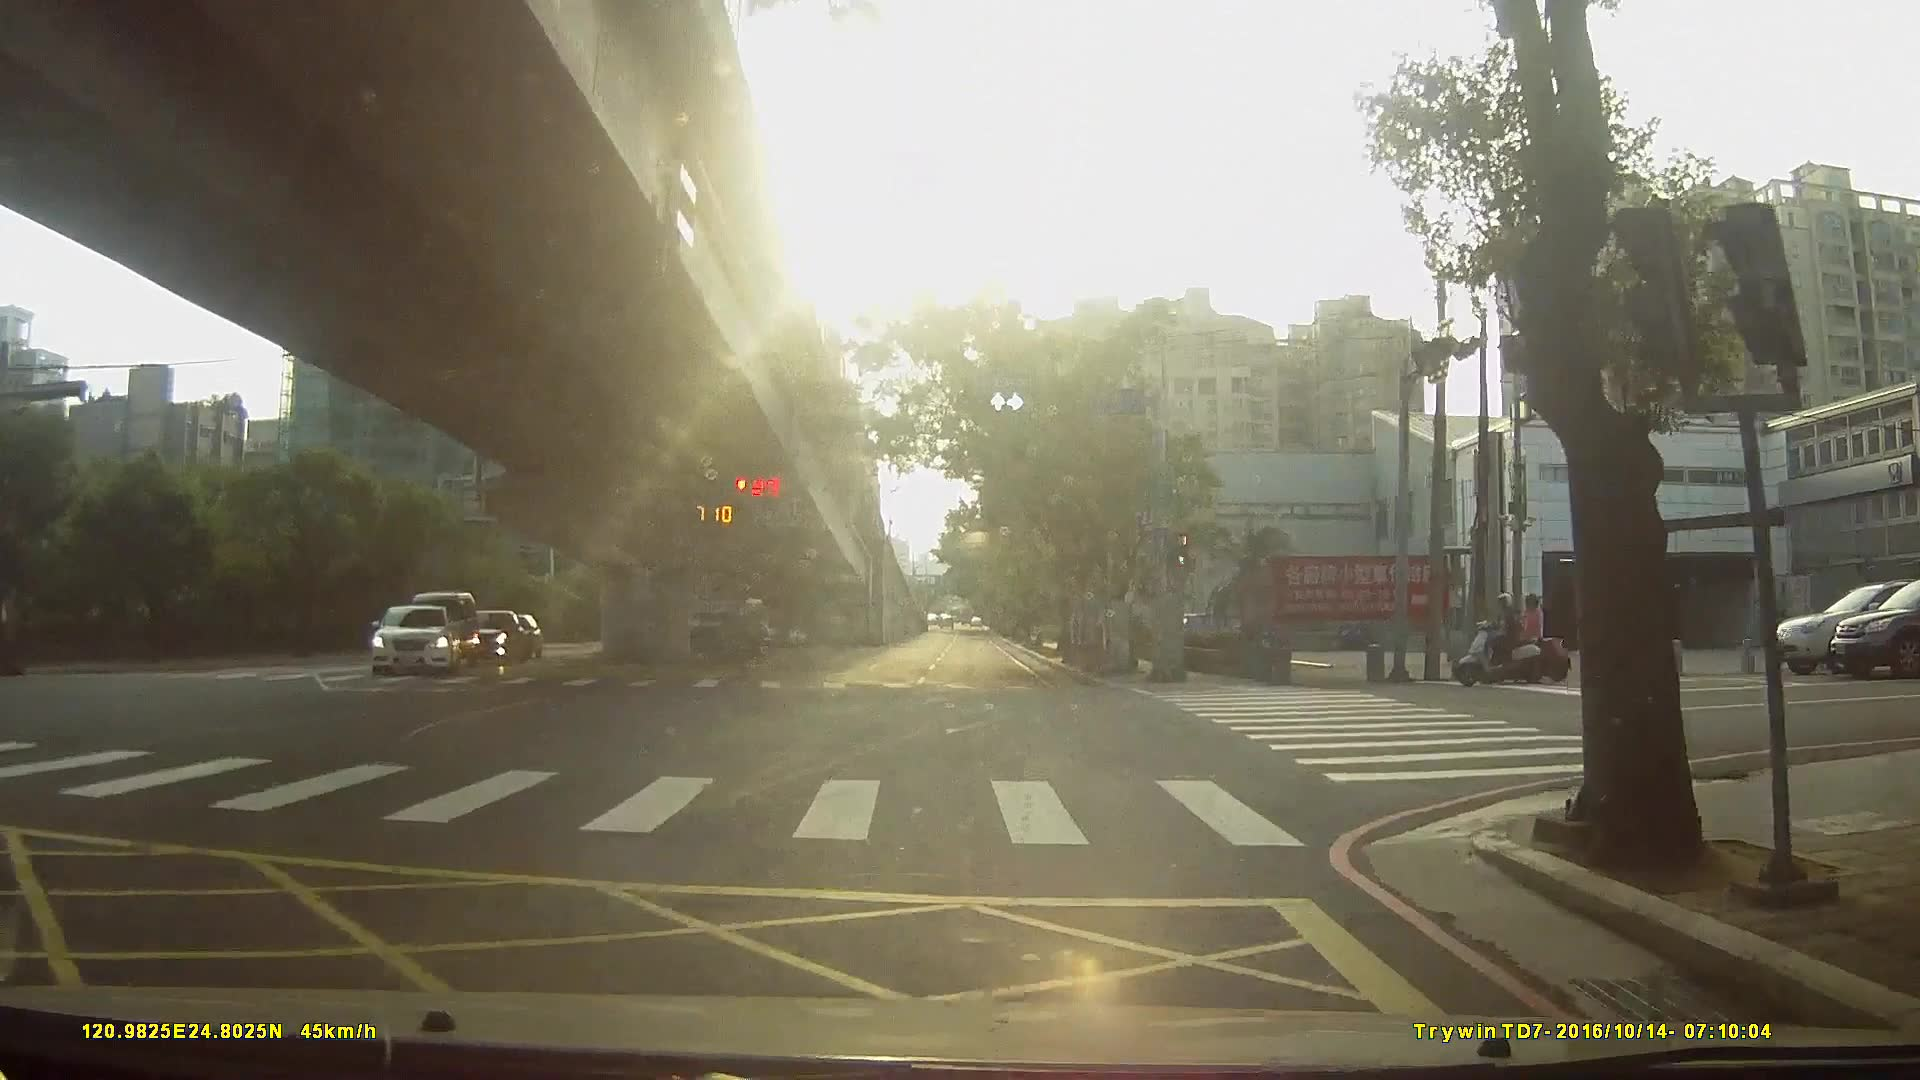rider: (1458, 589, 1545, 682)
vehicle: (1778, 577, 1920, 677), (1837, 576, 1919, 678), (363, 601, 452, 675), (661, 604, 766, 666), (451, 604, 526, 662)
